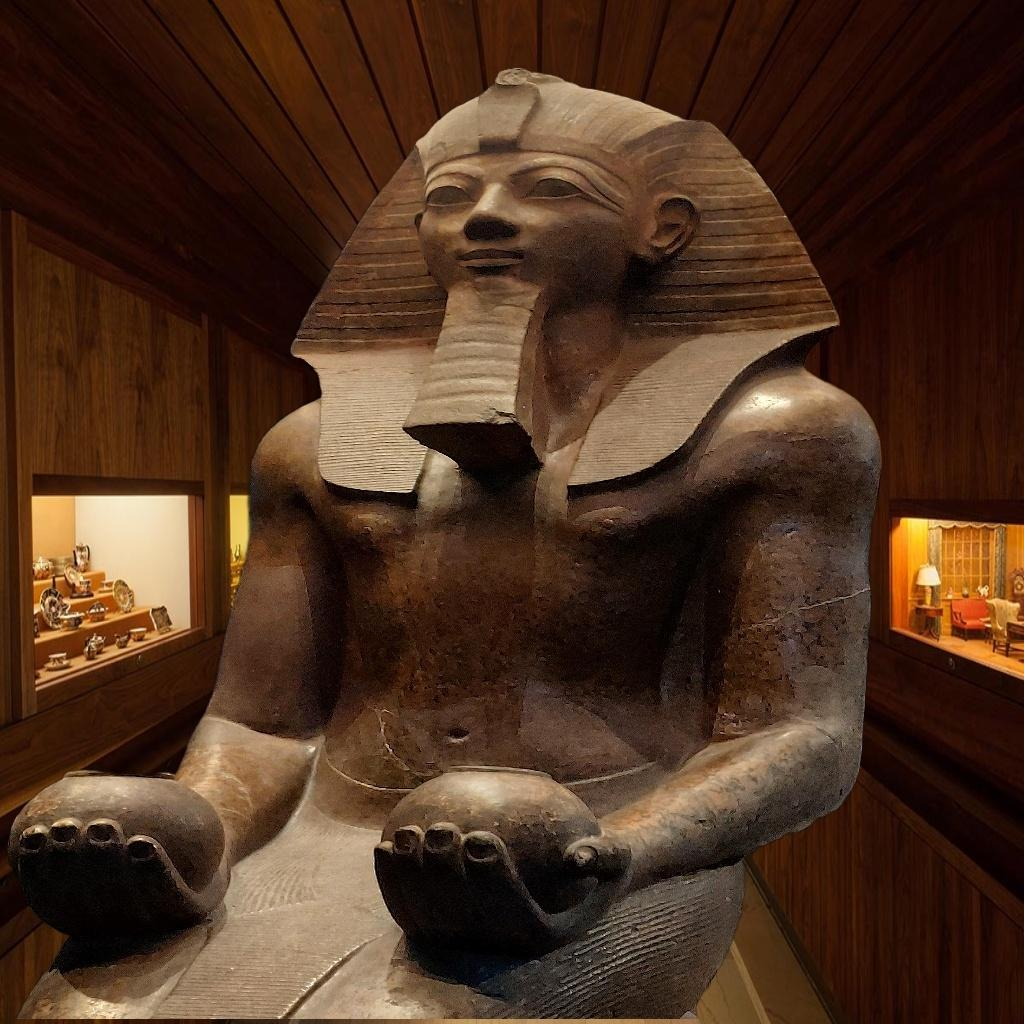kneeling statue of queen hatshibsut: (6, 63, 888, 1019)
